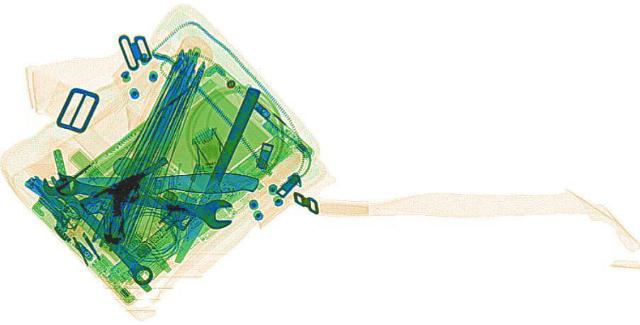Gun: (41, 156, 236, 243)
Knife: (169, 86, 261, 261), (69, 170, 258, 194)
Wrench: (31, 170, 169, 284), (42, 168, 246, 229)
